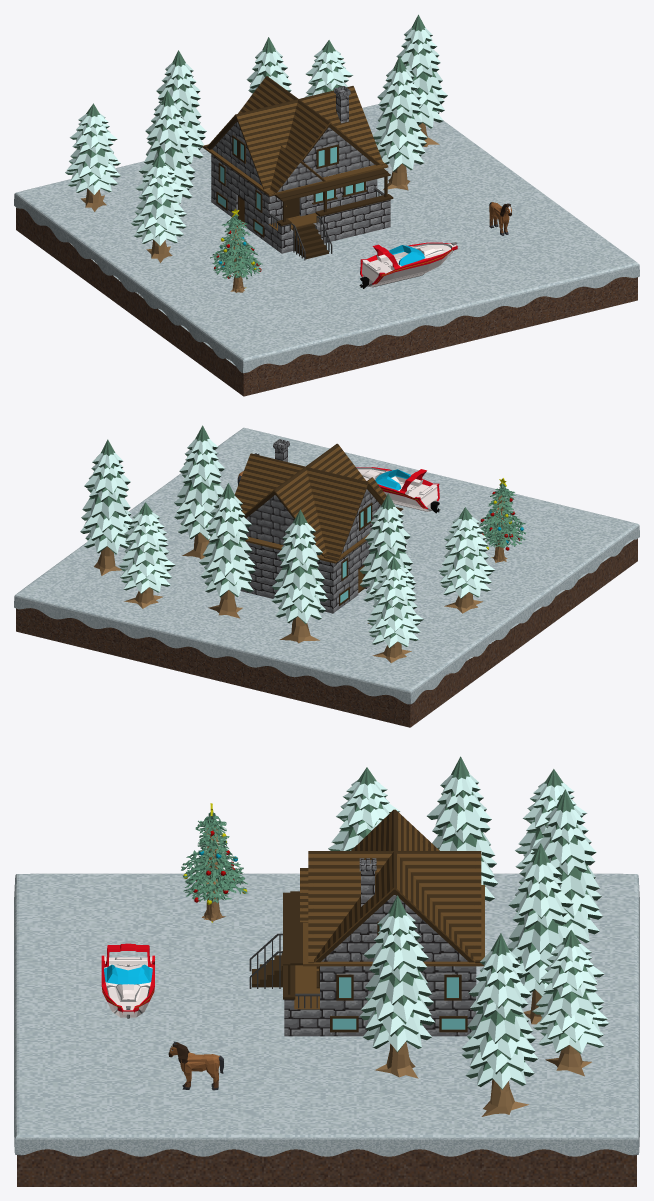
The picture shows the model from 3 angles, top to bottom: view 1: azimuth 30°, elevation 25°; view 2: azimuth 150°, elevation 25°; view 3: azimuth 270°, elevation 25°; orthographic projection. The views are drawn at different scales.
Visible parts, largest first — view 1: Cube.003, Cube.586, VEHICLES_BOAT, OBJRANDOM_CHRISTMAS_TREE, ANIMAL_CABALLO; view 2: Cube.003, Cube.586, VEHICLES_BOAT, OBJRANDOM_CHRISTMAS_TREE; view 3: Cube.003, Cube.586, OBJRANDOM_CHRISTMAS_TREE, VEHICLES_BOAT, ANIMAL_CABALLO.
Boxes of the visible parts, <box> form: Cube.003: <box>14,14,639,396</box>; Cube.586: <box>202,76,393,260</box>; VEHICLES_BOAT: <box>359,242,457,288</box>; OBJRANDOM_CHRISTMAS_TREE: <box>210,209,262,292</box>; ANIMAL_CABALLO: <box>489,202,511,235</box>; Cube.003: <box>14,425,639,727</box>; Cube.586: <box>234,439,405,613</box>; VEHICLES_BOAT: <box>356,467,440,513</box>; OBJRANDOM_CHRISTMAS_TREE: <box>479,478,525,562</box>; Cube.003: <box>14,756,639,1186</box>; Cube.586: <box>249,809,484,1036</box>; OBJRANDOM_CHRISTMAS_TREE: <box>181,803,248,922</box>; VEHICLES_BOAT: <box>101,943,154,1018</box>; ANIMAL_CABALLO: <box>168,1041,223,1090</box>.
Size of the model in its own units: 4040 by 1670 by 4040.
32 materials, 4 textured.
